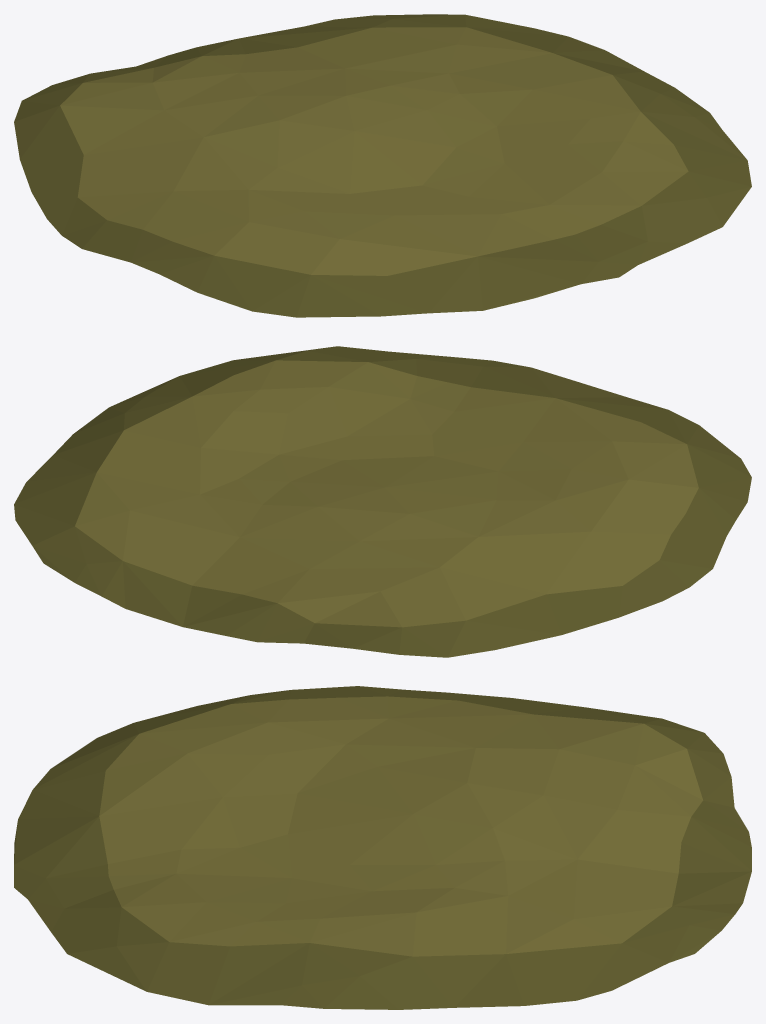
Rendered from EA_M_Env_Grass_05a.fbx.
3 renders of one model, top to bottom at view 1: azimuth 30°, elevation 25°; view 2: azimuth 150°, elevation 25°; view 3: azimuth 270°, elevation 25°, orthographic. The views are drawn at different scales.
Visible parts, largest first — view 1: EA_M_Env_Grass_05a_LOD0; view 2: EA_M_Env_Grass_05a_LOD0; view 3: EA_M_Env_Grass_05a_LOD0.
Part boxes in pixels (x1,y1,x2,y2): EA_M_Env_Grass_05a_LOD0: (14,14,751,317); EA_M_Env_Grass_05a_LOD0: (14,346,751,657); EA_M_Env_Grass_05a_LOD0: (14,686,751,1009).
Size of what is drawn, in the model's own units: 7.17 by 0.418 by 6.95.
